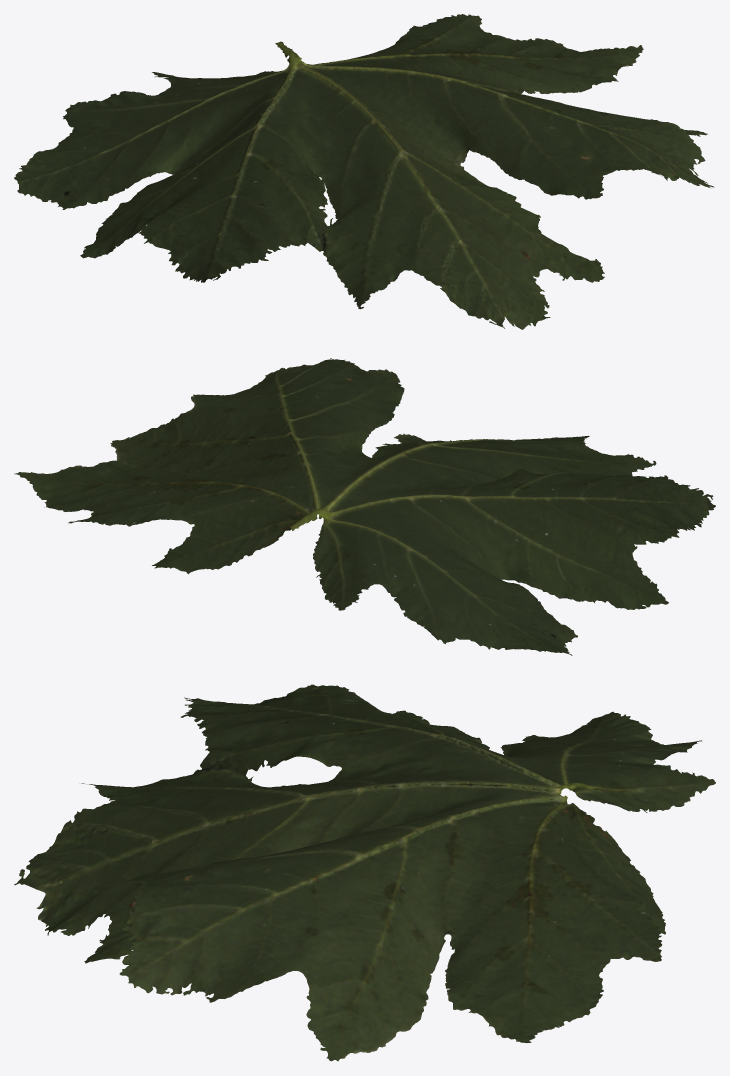
Rendered from leaf-scan.glb.
3 views of the same model, one above another, from view 1: azimuth 30°, elevation 25°; view 2: azimuth 150°, elevation 25°; view 3: azimuth 270°, elevation 25° (orthographic). The views are drawn at different scales.
Visible parts, largest first — view 1: Object_3, Object_2, Object_4; view 2: Object_3, Object_2, Object_4; view 3: Object_2, Object_3, Object_4.
Part boxes in pixels (x1,y1,x2,y2): Object_3: [14, 14, 707, 329]; Object_2: [105, 36, 714, 317]; Object_4: [14, 15, 712, 328]; Object_3: [14, 359, 703, 655]; Object_2: [41, 358, 715, 611]; Object_4: [18, 360, 714, 654]; Object_2: [32, 693, 712, 1027]; Object_3: [26, 684, 715, 1061]; Object_4: [14, 685, 698, 1055].
Size of the model in its own units: 266 by 49.19 by 220.
Materials: 1 (1 with a texture image).
